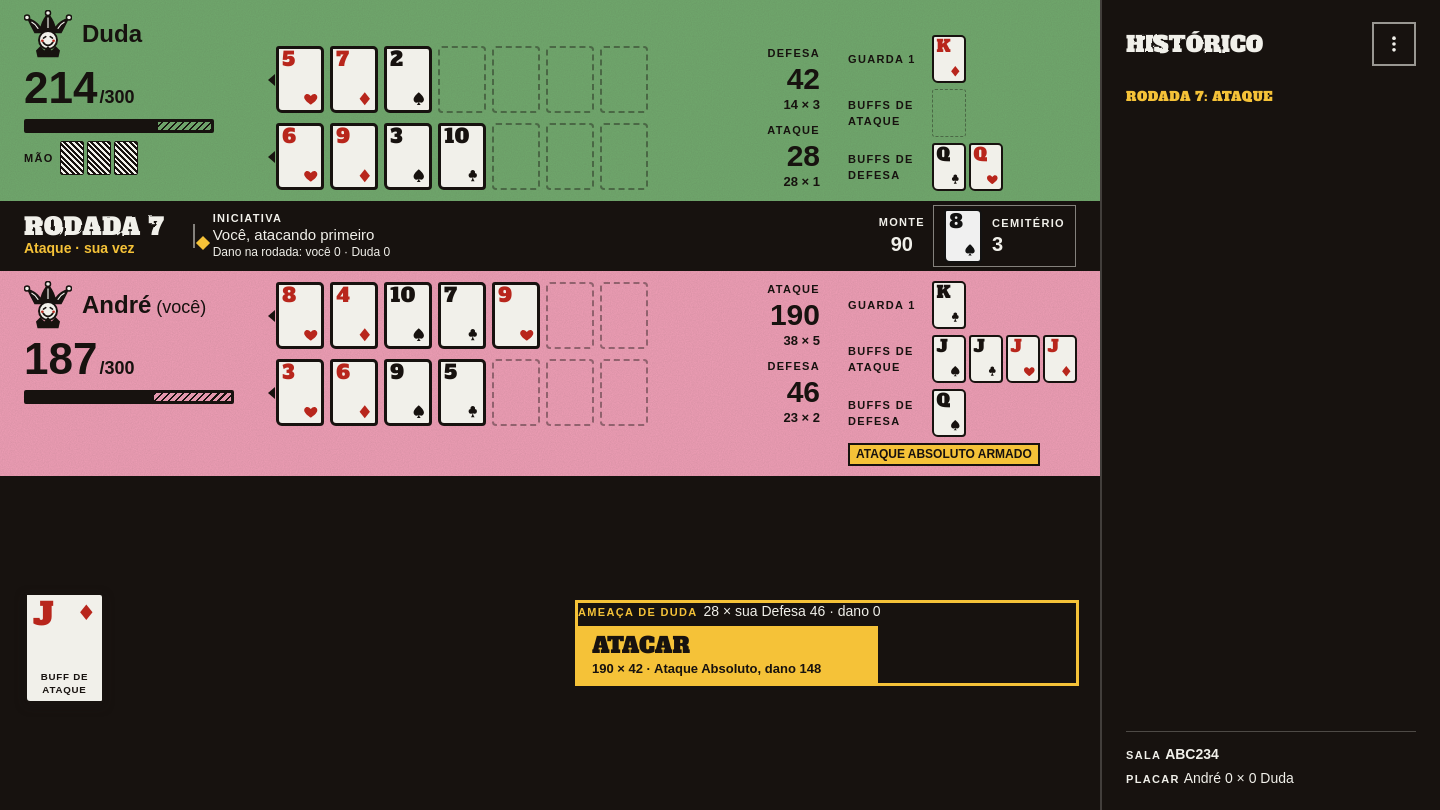
Test: barra de ação: tocar uma carta lista as jogadas (spec §3.4) › uma carta sem jogada possível diz por quê (B2), e o resto da barra continua
The width and height of the screenshot is (1440, 810).
Click the button with aria-label "J, Buff de ataque, de " at {"x": 64, "y": 648}, box [24, 592, 105, 704]
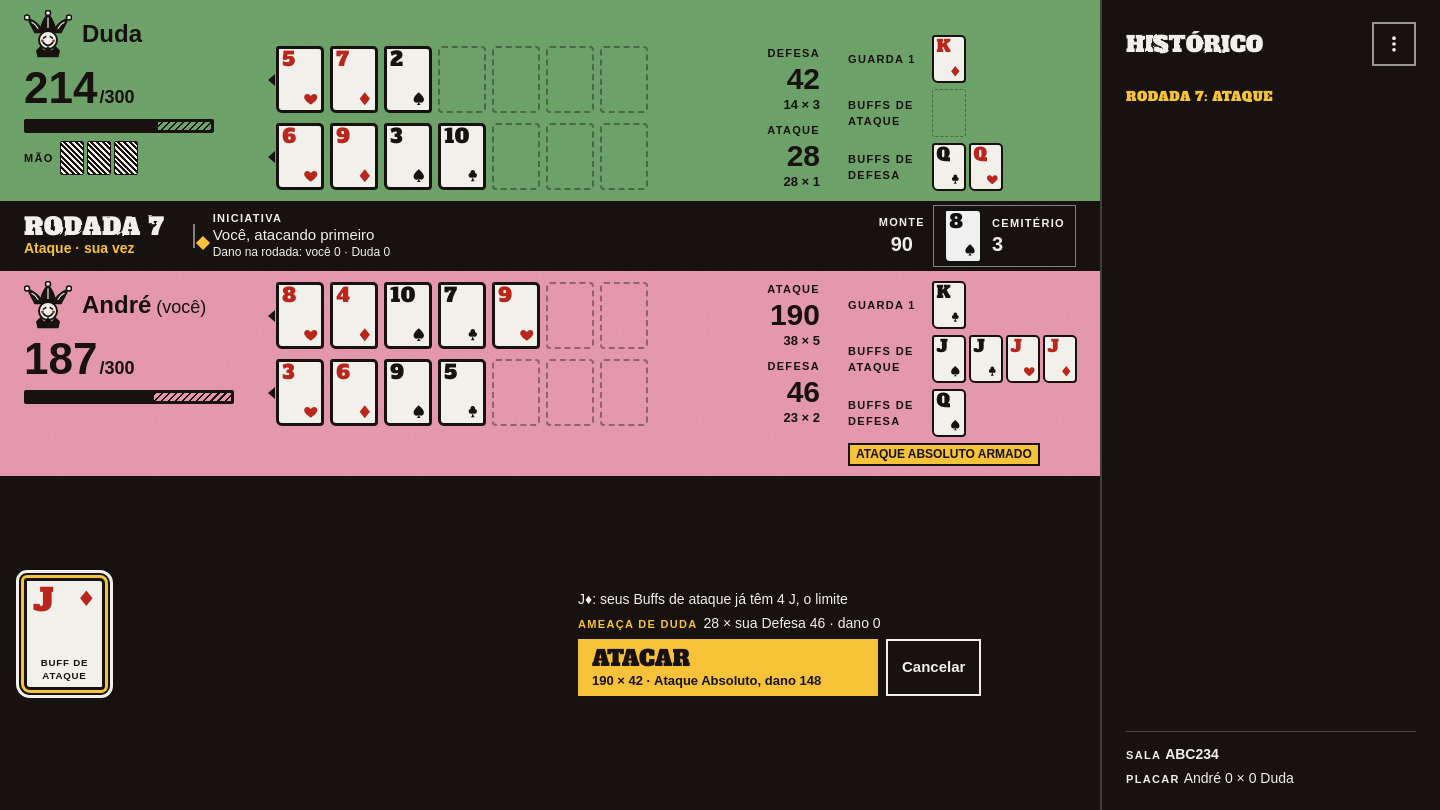
Expected: the button "Atacar 190 × 42 · Ataque Absoluto, dano 148" is enabled, [578, 639, 878, 696]
Expected: the text "J♦: seus Buffs de ataque já têm 4 J, o limite" is shown, [578, 591, 848, 607]
